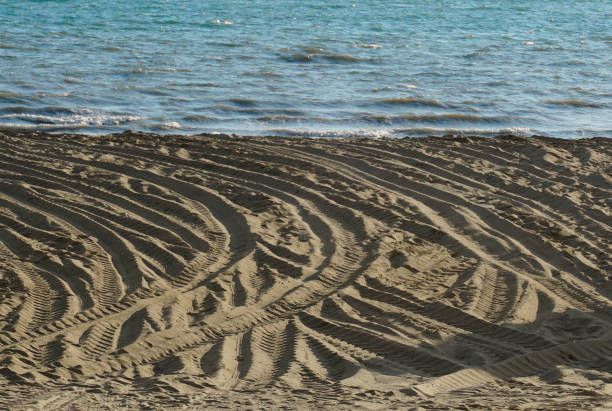vehicle_track: (0, 132, 611, 397)
